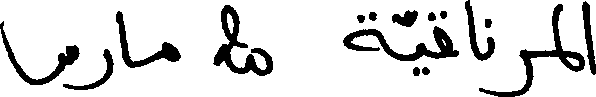0: (247, 43, 272, 76)
2: (211, 3, 248, 74)
ا: (462, 0, 478, 65), (581, 0, 593, 75), (117, 8, 131, 68)
ة: (341, 10, 385, 53)
ر: (78, 46, 114, 91), (503, 46, 533, 95)
س: (0, 18, 79, 89)
ق: (433, 8, 452, 58)
ل: (549, 0, 571, 63)
م: (559, 46, 582, 82), (162, 40, 179, 62)
ن: (484, 16, 494, 66)
ي: (408, 38, 432, 79)
